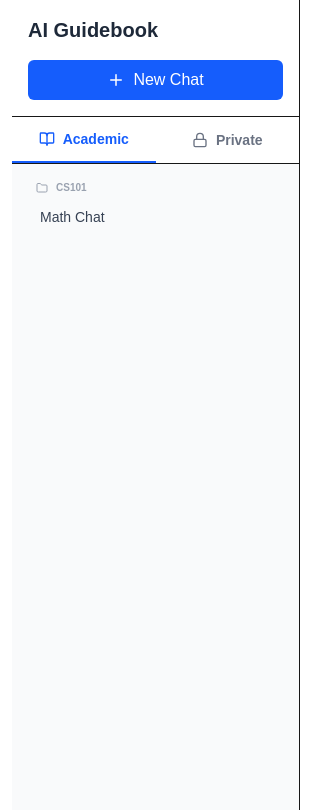
Sidebar Component › switches between Academic and Private tabs
The width and height of the screenshot is (332, 810).
Expected: the link "Math Chat" is shown, [40,209,105,225]
Click the button "Private": (227, 140) [156,117,299,163]
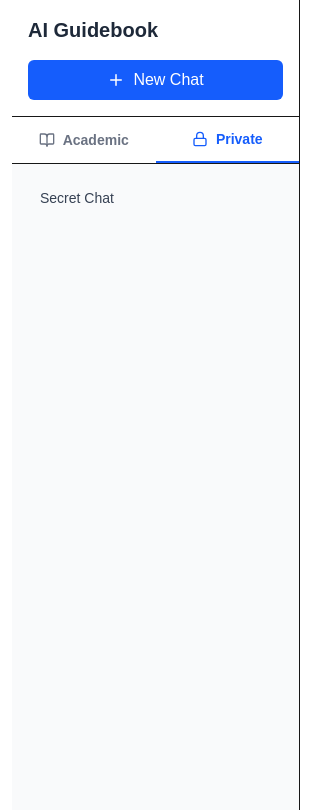
Expected: the link "Secret Chat" is shown, [40,190,114,206]
Expected: the link "Math Chat" is gone
